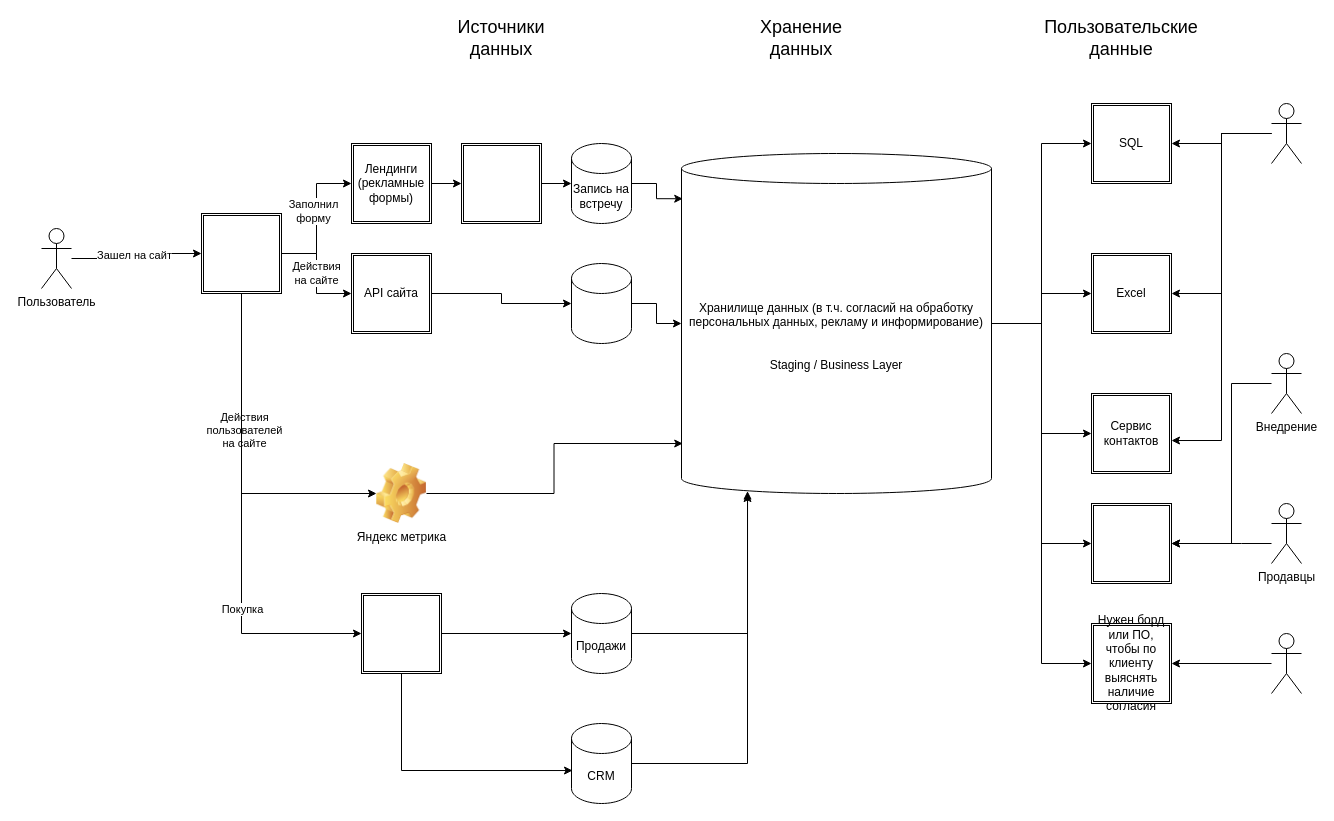
The diagram is 1334 pixels wide and 821 high, and some of its shapes have lost their labels. The box of each missing label's shape, as (x1, y1, x2, y2) in pixels:
API Лендинга: (460, 142, 542, 224)
OLTP: (360, 592, 442, 674)
Аналитики: (1270, 102, 1302, 164)
Контур Продажи: (1090, 502, 1172, 584)
Регистрация / Демо / Заявка: (570, 262, 632, 344)
Сайт в доменной зоне компании: (200, 212, 282, 294)
Юристы: (1270, 632, 1302, 694)
